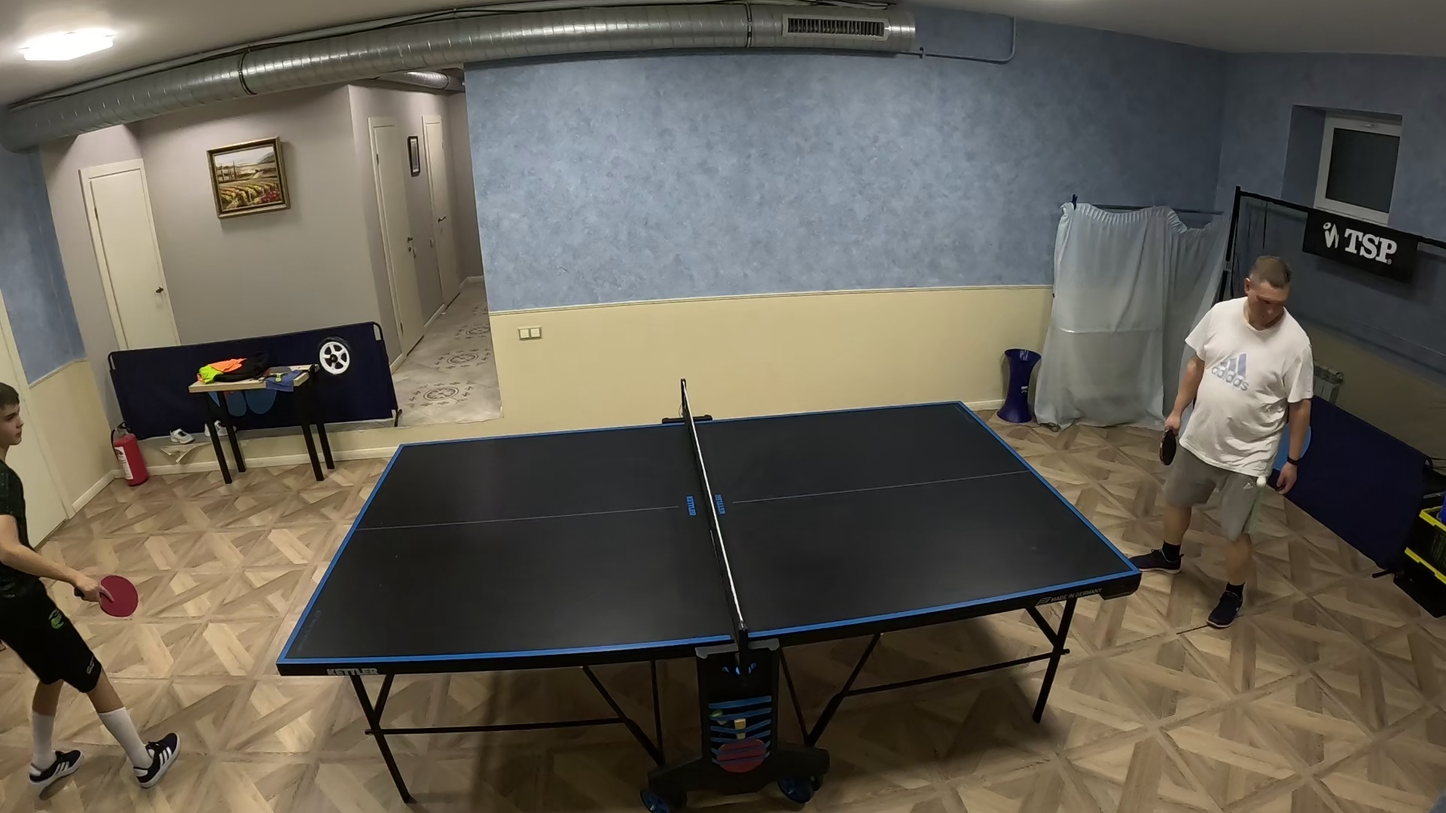Ball: (1257, 476, 1266, 486)
